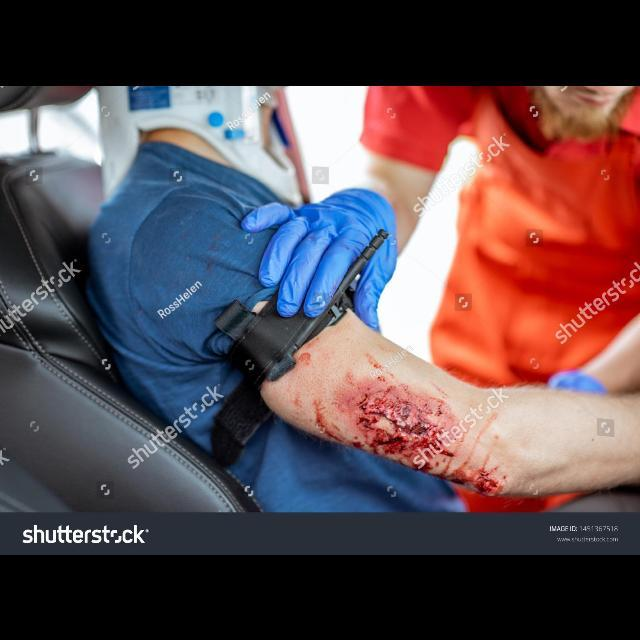blood: (356, 385, 451, 460), (315, 402, 372, 452), (454, 445, 504, 496)
